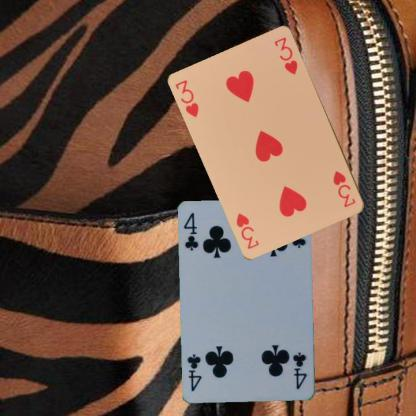3h: (173, 78, 200, 118), (331, 168, 357, 209)
4c: (181, 210, 200, 252), (290, 350, 309, 390)
